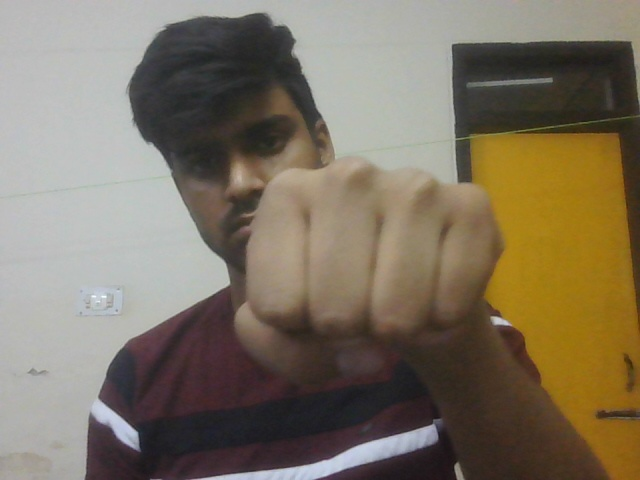yes: (207, 152, 551, 401)
